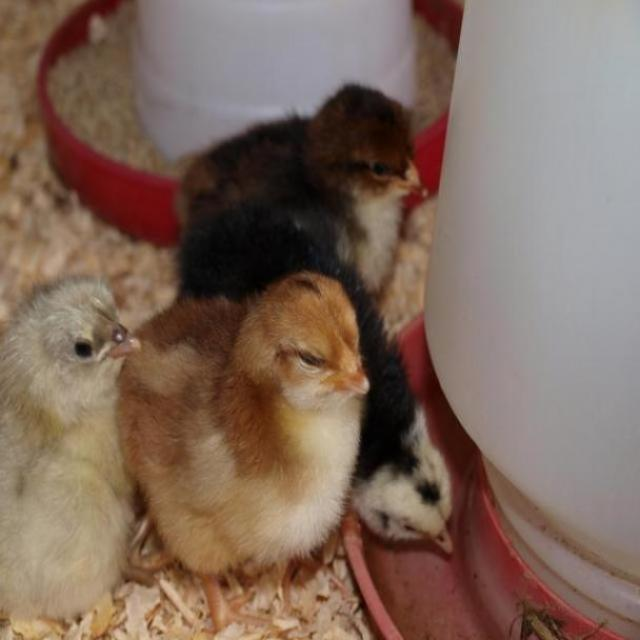Chicken: (117, 263, 369, 628), (0, 269, 174, 639), (171, 79, 430, 295)
